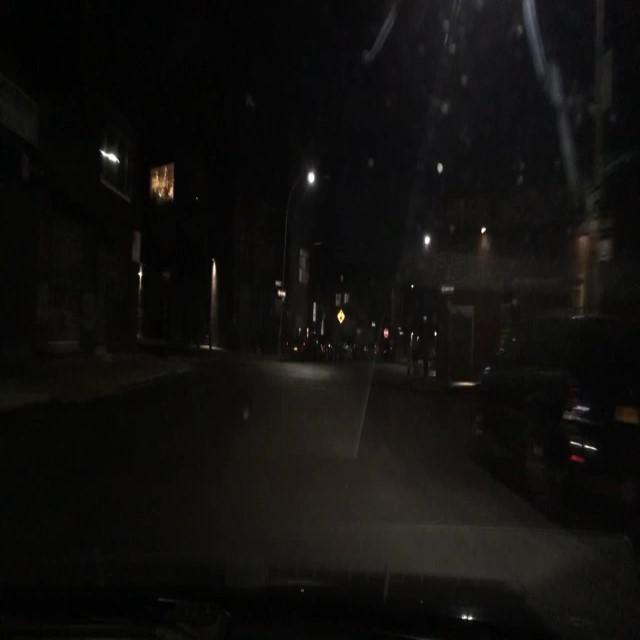normal: (461, 283, 640, 559)
